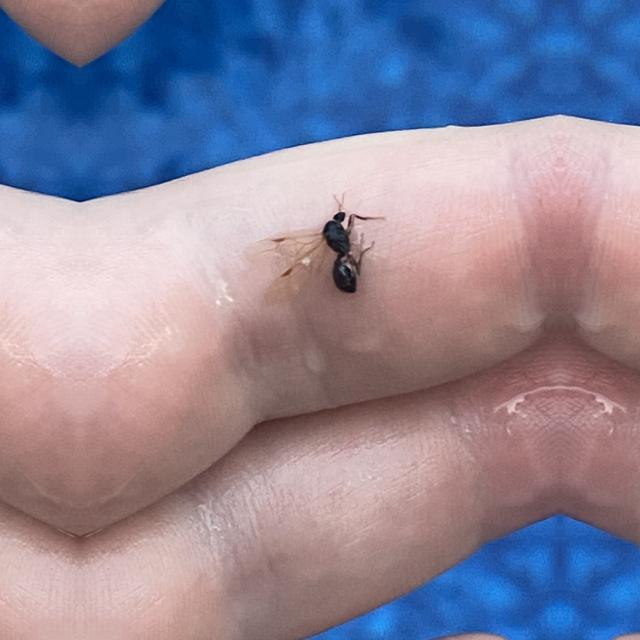Tetramorium: (287, 192, 391, 298)
